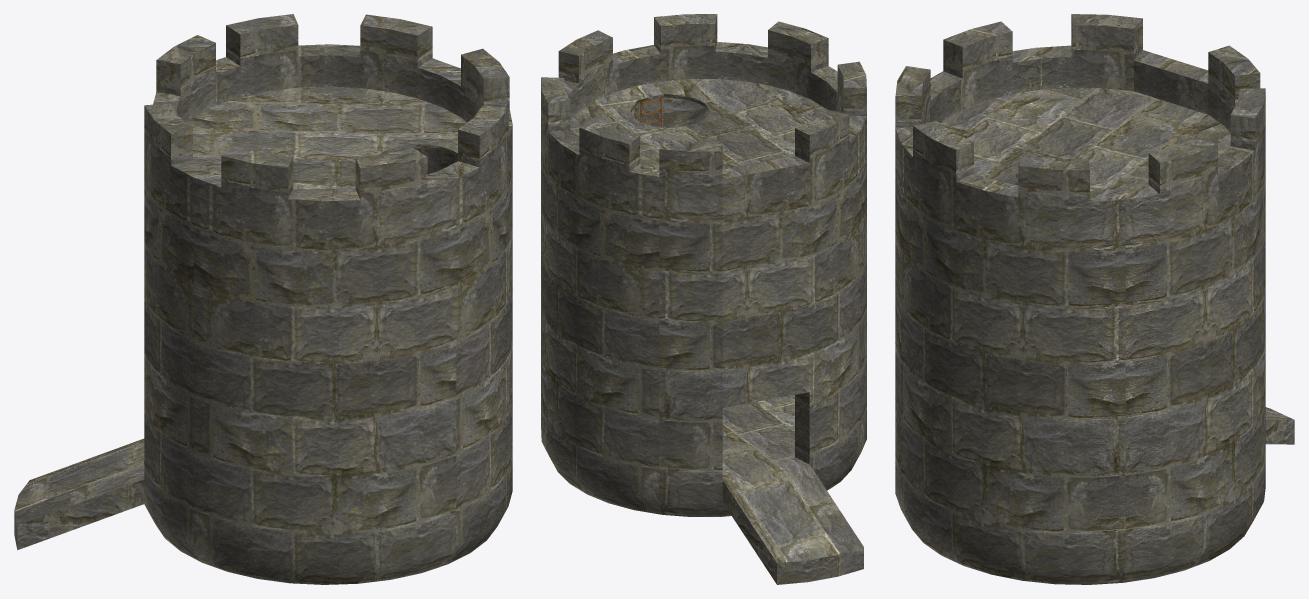
File: watchtower.glb
3 renders of one model, left to right at view 1: azimuth 30°, elevation 25°; view 2: azimuth 150°, elevation 25°; view 3: azimuth 270°, elevation 25°, orthographic. The views are drawn at different scales.
Parts seen in each view (by area): view 1: watchtower.001; view 2: watchtower.001; view 3: watchtower.001.
Part boxes in pixels (bbox=[...]): watchtower.001: bbox=[14, 14, 512, 584]; watchtower.001: bbox=[541, 14, 866, 584]; watchtower.001: bbox=[895, 14, 1294, 584].
Bounding box in the file's own units: 20.52 × 21.51 × 17.48.
Materials: 2 (2 with a texture image).
